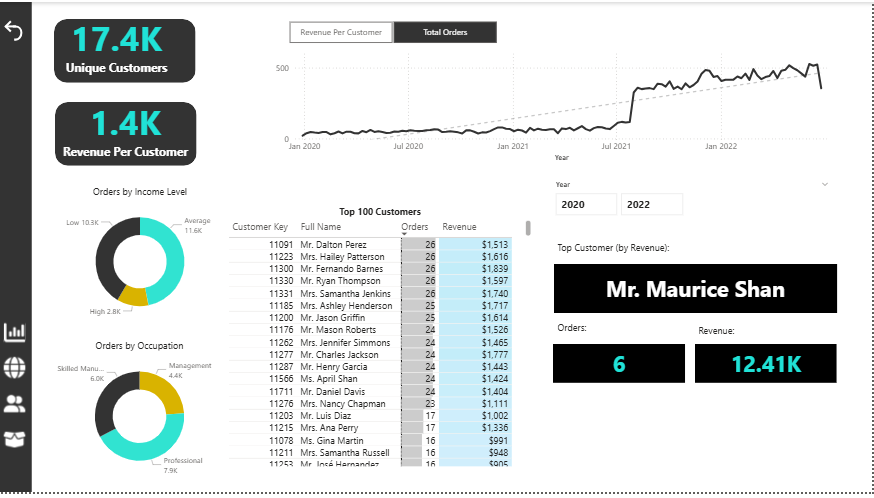

The dashboard page shown, as its layout file describes it:
{"tool":"powerbi","page":{"name":"Customers Details","canvas":[1280,720],"ordinal":1},"visuals":[{"type":"shape","box":[0,0,46.7,720],"z":0},{"type":"lineChart","fields":{"Y":["Measure Table.Total Orders"],"Category":["Calendar Lookup.Start of Week.Variation.Date Hierarchy.Year","Calendar Lookup.Start of Week.Variation.Date Hierarchy.Quarter","Calendar Lookup.Start of Week.Variation.Date Hierarchy.Month","Calendar Lookup.Start of Week.Variation.Date Hierarchy.Day"]},"box":[398.9,62,836,178],"z":1000},{"type":"donutChart","title":"Orders by Income Level","fields":{"Y":["Measure Table.Total Orders"],"Series":["Customer Lookup.Income Level"]},"box":[79.5,268.6,252.7,208.2],"z":2000},{"type":"donutChart","title":"Orders by Occupation","fields":{"Series":["Customer Lookup.Occupation"],"Y":["Measure Table.Total Orders"]},"box":[79.4,495.1,251.3,209.8],"z":3000},{"type":"shape","box":[79.5,25.4,208.2,93.8],"z":4000},{"type":"shape","box":[81.1,146.2,208.2,93.8],"z":5000},{"type":"card","fields":{"Values":["Measure Table.Total Customers"]},"box":[46.1,0,251.1,124],"z":6000},{"type":"card","fields":{"Values":["Measure Table.Average Revenue Per Customer"]},"box":[58.8,124,251.1,124],"z":7000},{"type":"tableEx","title":"Top 100 Customers","fields":{"Values":["Customer Lookup.CustomerKey","Customer Lookup.Full Name","Measure Table.Total Orders","Measure Table.Total Revenue"]},"box":[330.7,298.6,455.4,389.3],"z":8000},{"type":"card","fields":{"Values":["Measure Table.Full Name (Customer Details)"]},"box":[813.8,385,415.8,71.8],"z":9000},{"type":"card","fields":{"Values":["Measure Table.Total Revenue (Customer Details)"]},"box":[1021.3,502.8,208.2,57.2],"z":10000},{"type":"card","fields":{"Values":["Measure Table.Total Order (Customer Details)"]},"box":[813.1,502.8,193.9,57.2],"z":11000},{"type":"textbox","box":[813.8,347.2,192.8,37.8],"z":12000},{"type":"textbox","box":[813.8,464.4,192.8,37.8],"z":13000},{"type":"textbox","box":[1021.3,469.4,151,33.4],"z":14000},{"type":"slicer","fields":{"Values":["Calendar Lookup.Date.Variation.Date Hierarchy.Year"]},"box":[804.2,257.5,426,81.1],"z":15000},{"type":"actionButton","box":[0,22.3,100.1,39.7],"z":16000},{"type":"actionButton","box":[1.6,459.3,39.7,52.5],"z":17000},{"type":"actionButton","box":[1.6,564.2,39.7,52.5],"z":18000},{"type":"actionButton","box":[1.6,616.7,39.7,52.5],"z":19000},{"type":"actionButton","box":[1.6,511.8,39.7,52.5],"z":20000},{"type":"slicer","fields":{"Values":["Customer Metric Selection .Customer Metric Selection "]},"box":[398.9,22.3,354.4,44.5],"z":21000}]}

Visuals, with their boxes on the page's 1280x720 design canvas (x1, y1, x2, y2). These are canvas units, not pixel positions in the 874x498 screenshot, which may show the page scaled, cropped or inside an application window:
shape: <region>0, 0, 47, 720</region>
lineChart - Measure Table.Total Orders x Calendar Lookup.Start of Week.Variation.Date Hierarchy.Year: <region>399, 62, 1235, 240</region>
"Orders by Income Level" donutChart: <region>80, 269, 332, 477</region>
"Orders by Occupation" donutChart: <region>79, 495, 331, 705</region>
shape: <region>80, 25, 288, 119</region>
shape: <region>81, 146, 289, 240</region>
card - Measure Table.Total Customers: <region>46, 0, 297, 124</region>
card - Measure Table.Average Revenue Per Customer: <region>59, 124, 310, 248</region>
"Top 100 Customers" tableEx: <region>331, 299, 786, 688</region>
card - Measure Table.Full Name (Customer Details): <region>814, 385, 1230, 457</region>
card - Measure Table.Total Revenue (Customer Details): <region>1021, 503, 1230, 560</region>
card - Measure Table.Total Order (Customer Details): <region>813, 503, 1007, 560</region>
textbox: <region>814, 347, 1007, 385</region>
textbox: <region>814, 464, 1007, 502</region>
textbox: <region>1021, 469, 1172, 503</region>
slicer - Calendar Lookup.Date.Variation.Date Hierarchy.Year: <region>804, 258, 1230, 339</region>
actionButton: <region>0, 22, 100, 62</region>
actionButton: <region>2, 459, 41, 512</region>
actionButton: <region>2, 564, 41, 617</region>
actionButton: <region>2, 617, 41, 669</region>
actionButton: <region>2, 512, 41, 564</region>
slicer - Customer Metric Selection .Customer Metric Selection : <region>399, 22, 753, 67</region>
